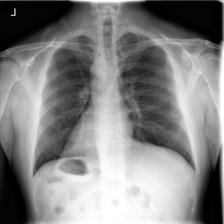normal: (25, 28, 202, 184)
